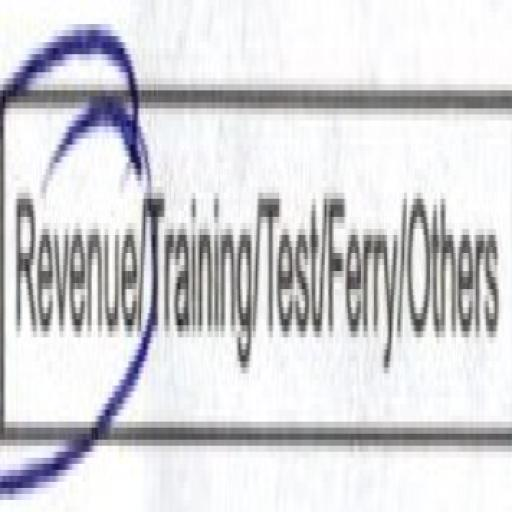check: (0, 6, 142, 506)
